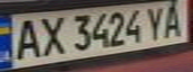2: (106, 8, 127, 47)
3: (66, 11, 93, 52)
4: (124, 7, 148, 44), (90, 10, 112, 49)
A: (6, 16, 42, 61), (157, 1, 187, 39)
X: (36, 12, 66, 57)
Y: (142, 3, 169, 42)
